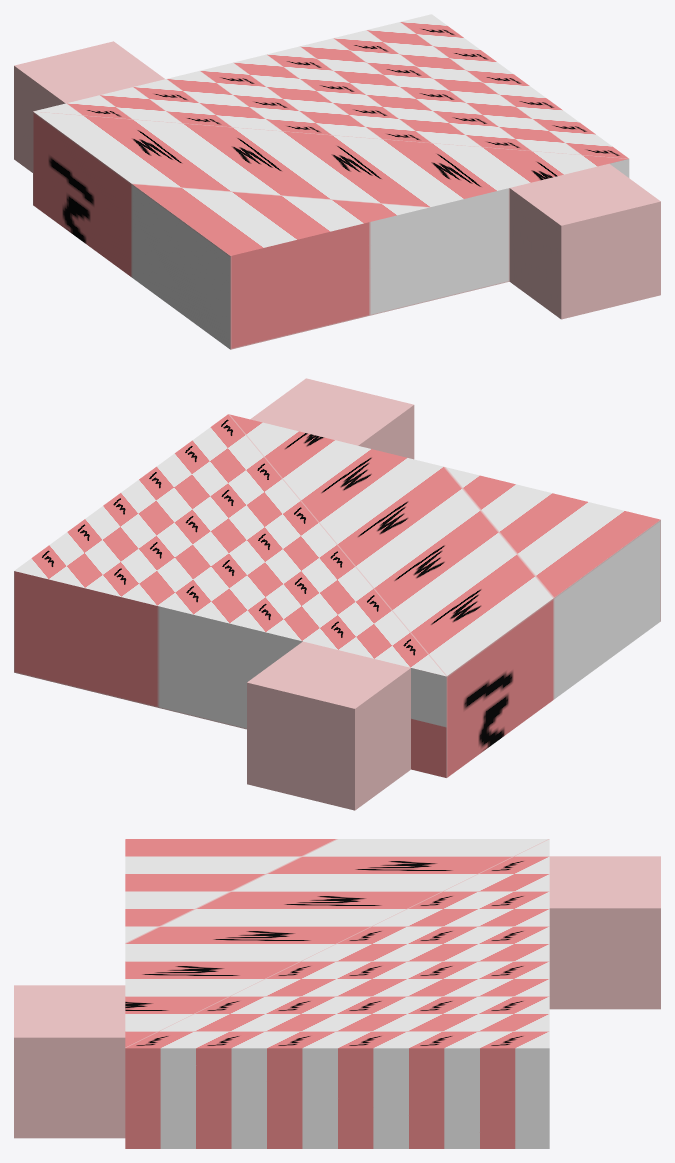
Rendered from Map1.fbx.
3 renders of one model, top to bottom at view 1: azimuth 30°, elevation 25°; view 2: azimuth 150°, elevation 25°; view 3: azimuth 270°, elevation 25°, orthographic. The views are drawn at different scales.
Parts seen in each view (by area): view 1: Plane; view 2: Plane; view 3: Plane.
Part boxes in pixels (<box>): Plane: <box>14,14,660,349</box>; Plane: <box>14,378,660,810</box>; Plane: <box>14,839,660,1148</box>.
Bounding box in the file's own units: 1781 × 400 × 2328.
1 material, 1 textured.
